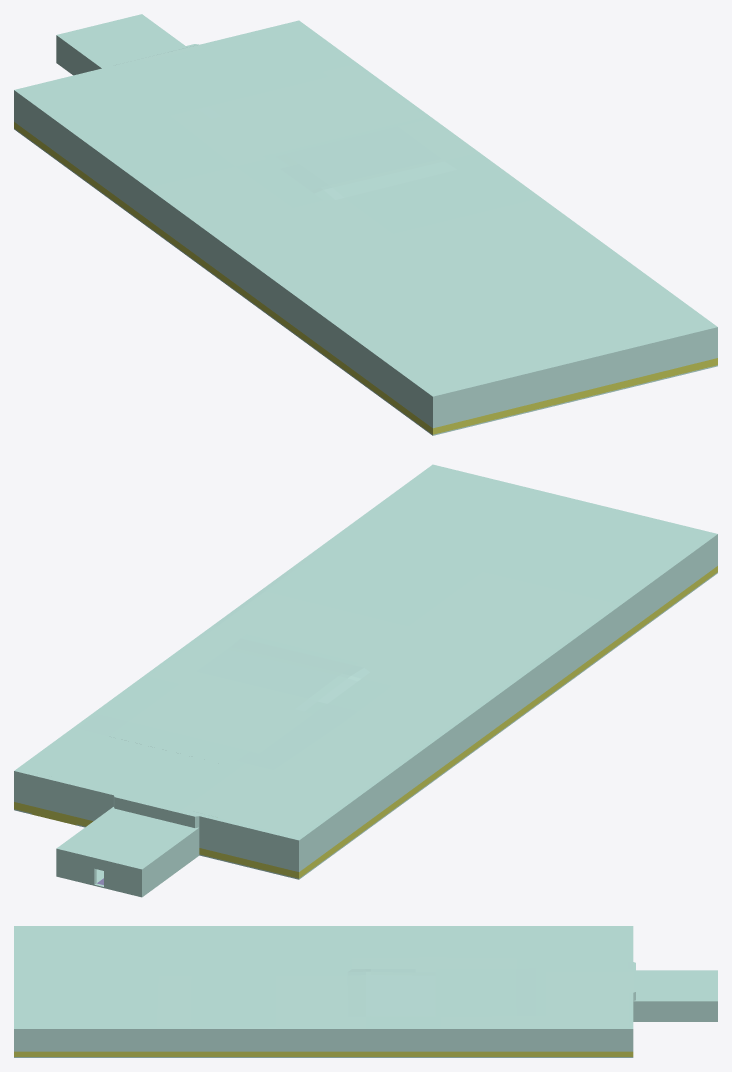
Rendered from EscenarioFinal.glb.
The picture shows the model from 3 angles, top to bottom: view 1: azimuth 30°, elevation 25°; view 2: azimuth 150°, elevation 25°; view 3: azimuth 270°, elevation 25°; orthographic projection. The views are drawn at different scales.
Parts seen in each view (by area): view 1: Cube; view 2: Cube; view 3: Cube.
Boxes of the visible parts, box(x1,y1,x2,y2) form: Cube: box(14, 14, 717, 435); Cube: box(14, 464, 717, 897); Cube: box(14, 926, 717, 1057).
Bounding box in the file's own units: 18.58 × 2.51 × 53.76.
